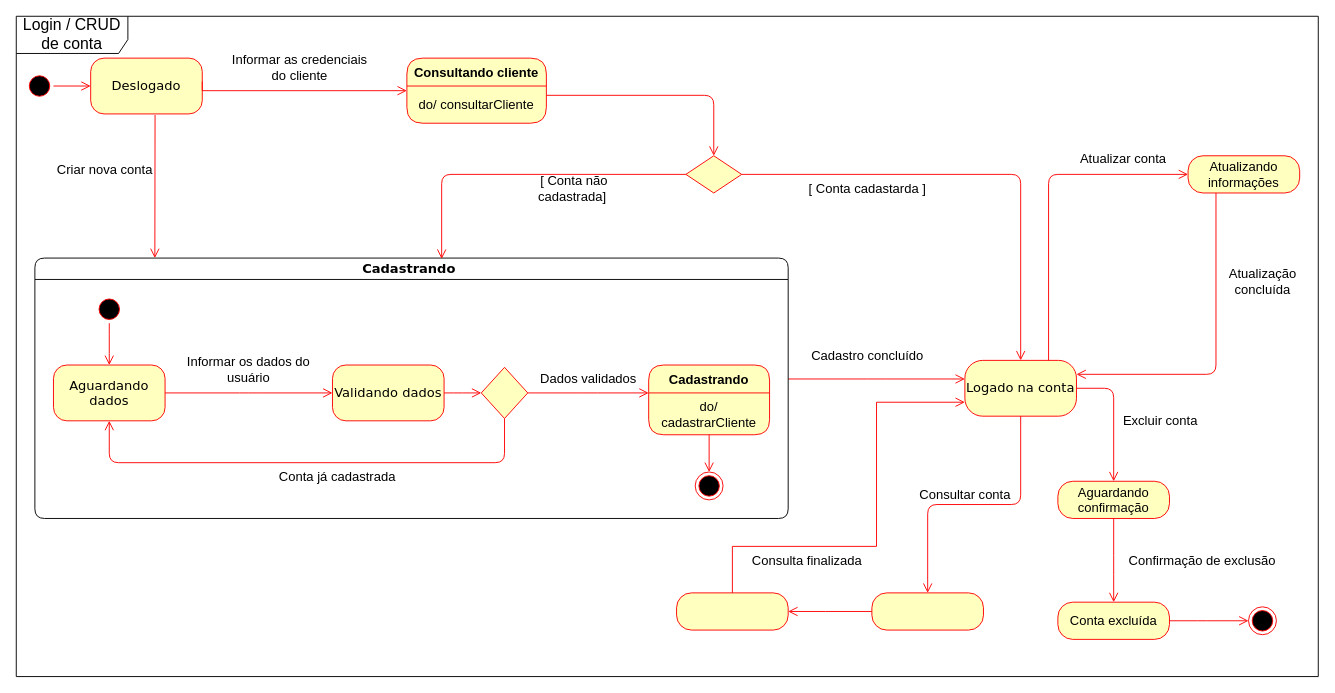
Image size: 1335x693. Some labels were removed from this diagram. The centre of each missing label's shape, as x and y in pixels:
Consultando conta: point (927, 611)
Exibindo conta: point (732, 611)
